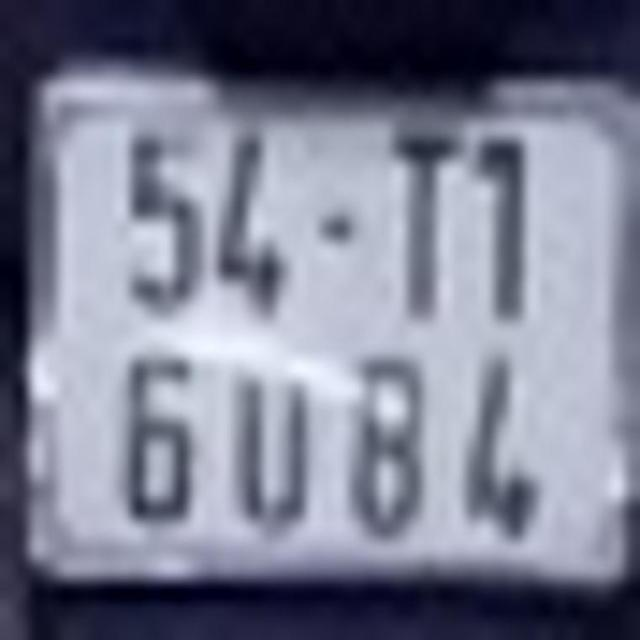0: (236, 338, 311, 534)
1: (474, 130, 531, 322)
4: (215, 125, 287, 322), (465, 353, 538, 543)
5: (123, 127, 205, 319)
6: (124, 348, 197, 524)
8: (353, 351, 424, 539)
T: (392, 129, 462, 325)
